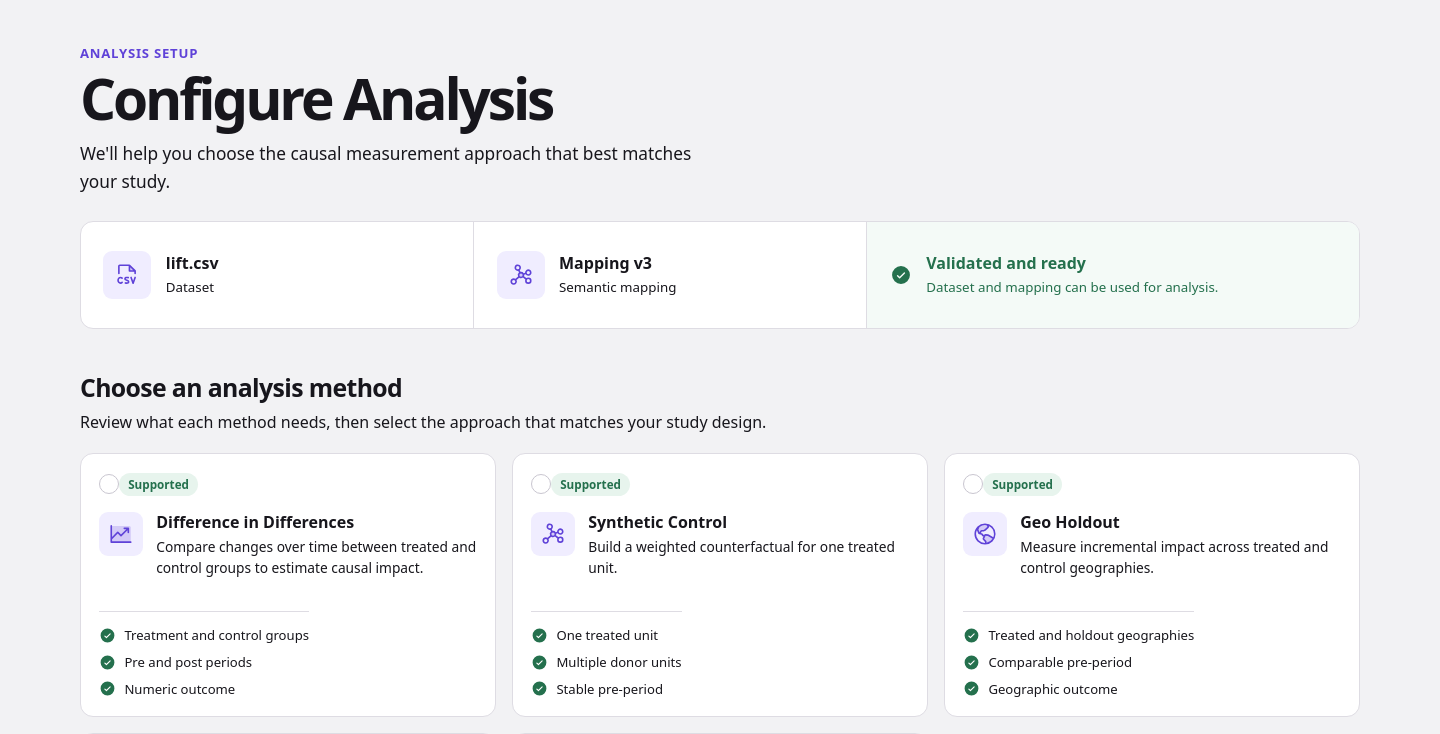
Scenario: Analysis Configuration estimator selection › requires one estimator selection before continuing
The width and height of the screenshot is (1440, 734).
Click the button "Synthetic Control".
click(591, 484)  # box [512,453,928,717]
(page scrolled)
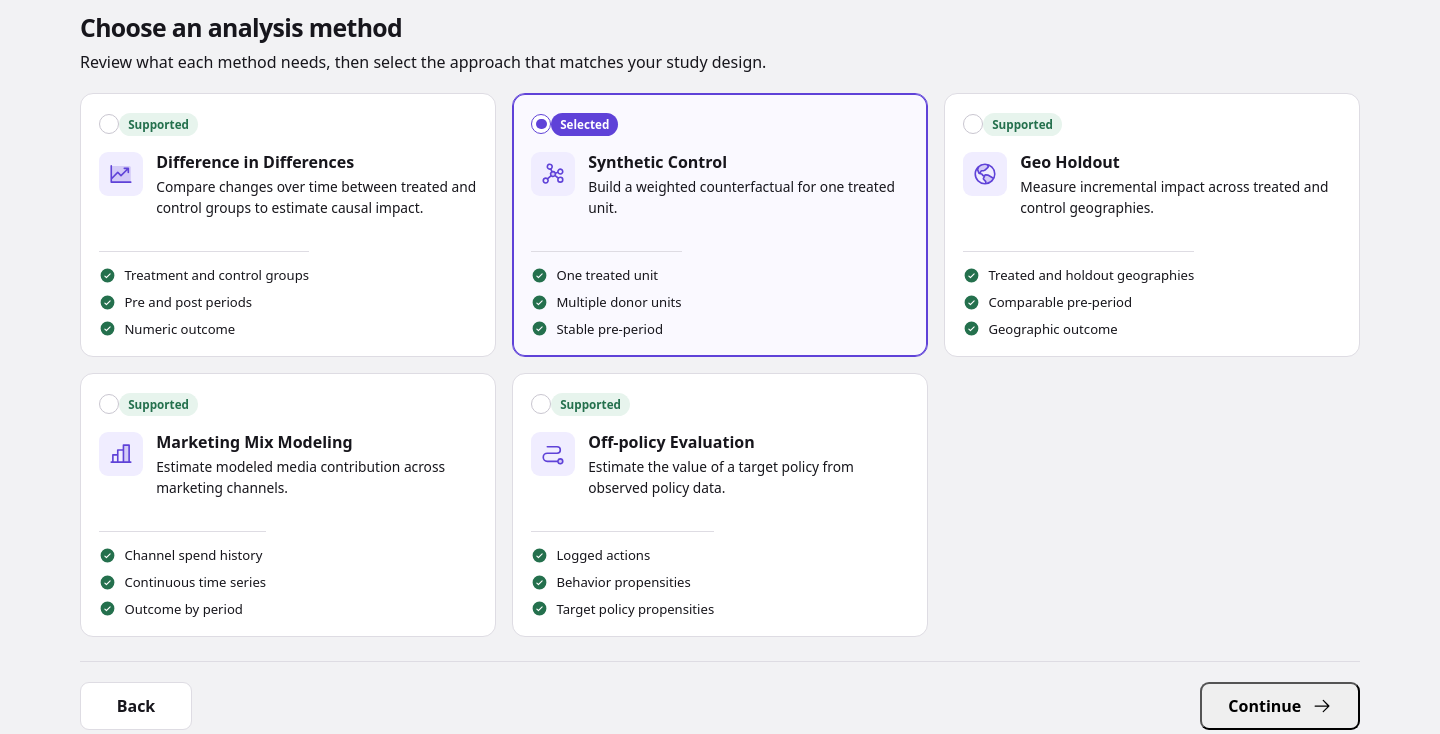
Expected: the button "Continue" is enabled, [1200,682,1360,730]
